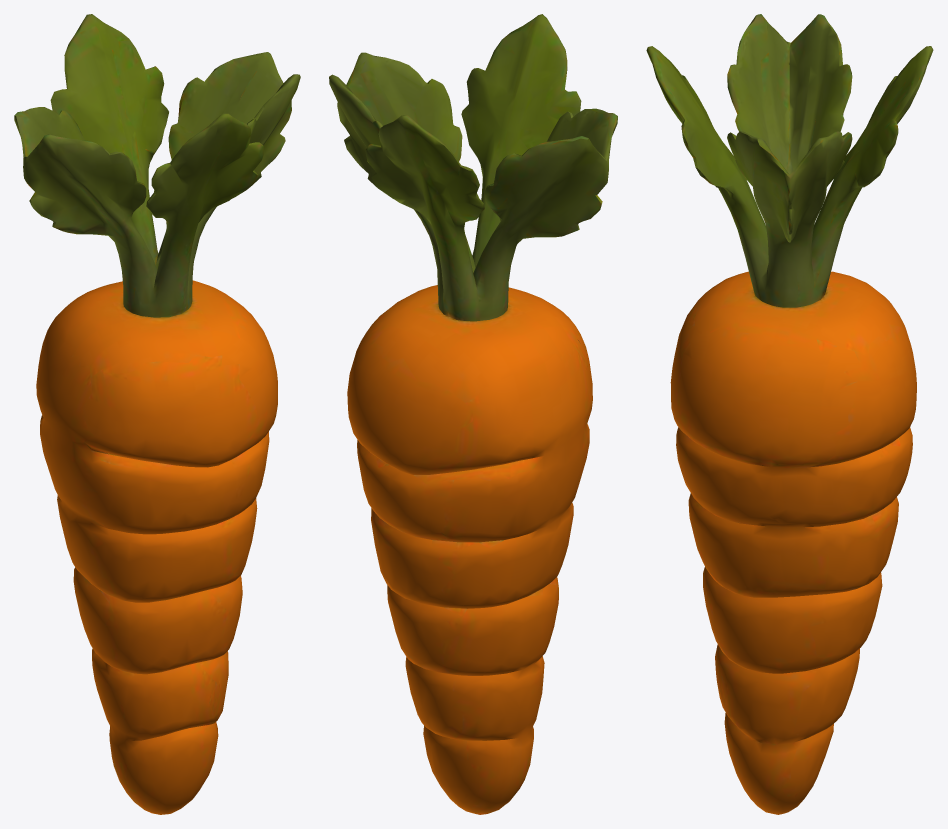
The model's file is zanahoria.glb.
The picture shows the model from 3 angles, left to right: view 1: azimuth 30°, elevation 25°; view 2: azimuth 150°, elevation 25°; view 3: azimuth 270°, elevation 25°; orthographic projection. The views are drawn at different scales.
Visible parts, largest first — view 1: objeto; view 2: objeto; view 3: objeto.
Boxes of the visible parts, x1=… form: objeto: x1=14, y1=14, x2=300, y2=814; objeto: x1=329, y1=14, x2=617, y2=814; objeto: x1=646, y1=14, x2=933, y2=814.
Size of the model in its own units: 0.4536 by 1.2 by 0.4081.
1 material, 1 textured.
